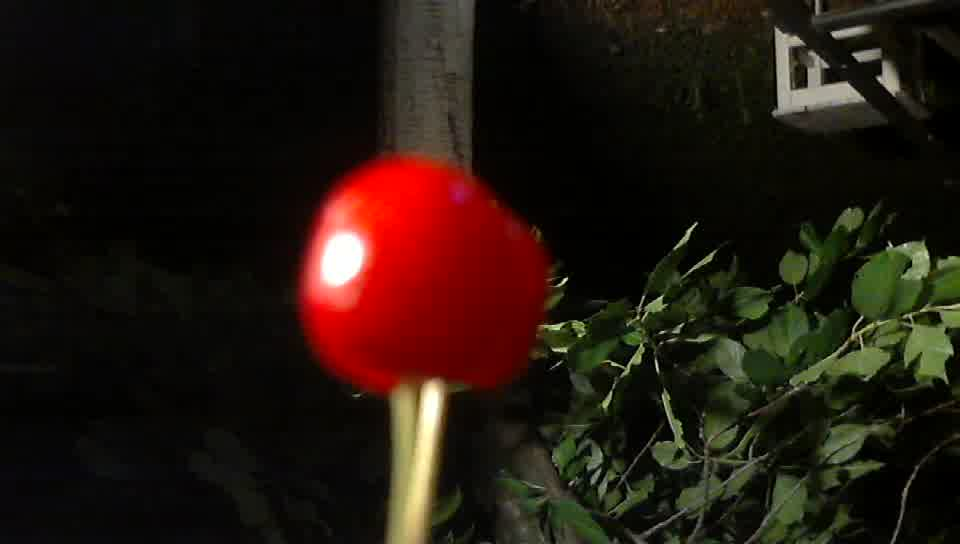Cherry: (264, 132, 592, 434)
